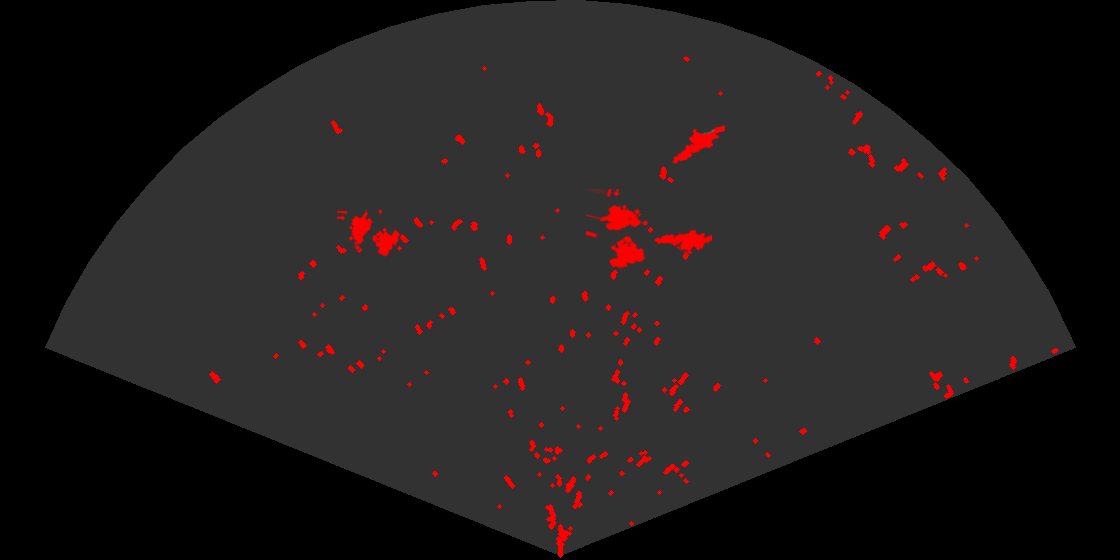cage: (586, 189, 650, 270), (337, 210, 402, 258)
frogman: (670, 124, 725, 165), (652, 228, 712, 256)
